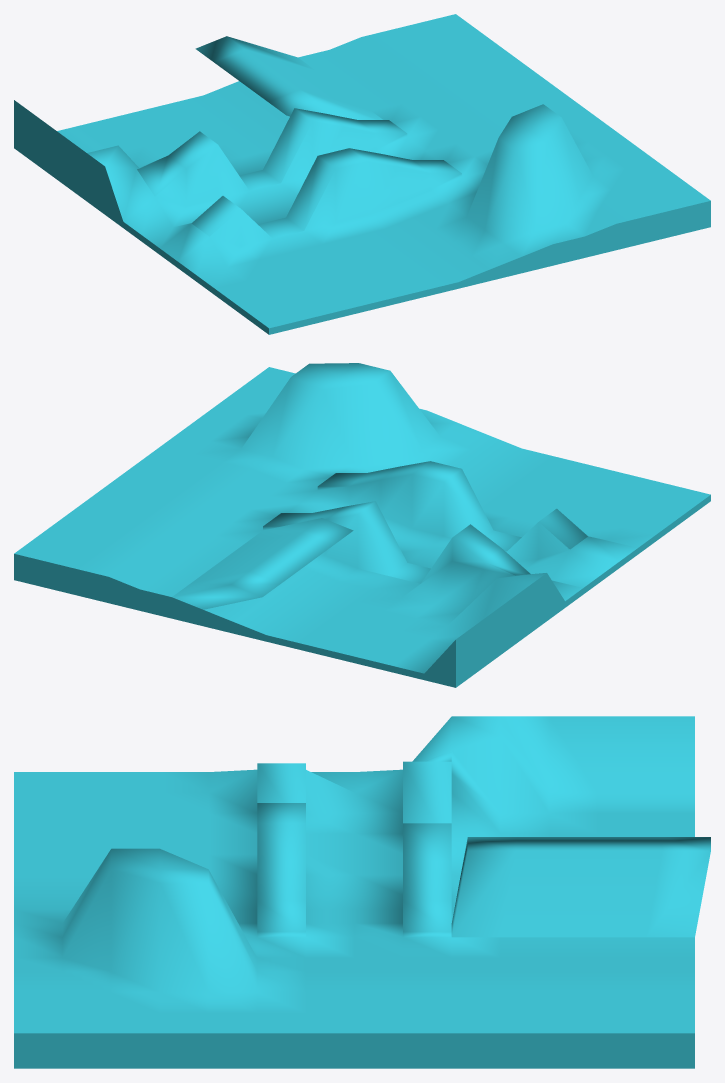
The model's file is lafaussescene.fbx.
3 views of the same model, one above another, from view 1: azimuth 30°, elevation 25°; view 2: azimuth 150°, elevation 25°; view 3: azimuth 270°, elevation 25° (orthographic). The views are drawn at different scales.
Parts seen in each view (by area): view 1: plateau; view 2: plateau; view 3: plateau.
Boxes of the visible parts, x1,y1,x2,y2 form: plateau: (14,14,710,334); plateau: (14,363,710,687); plateau: (14,716,710,1068).
Size of the model in its own units: 140000 by 28098 by 143286.
